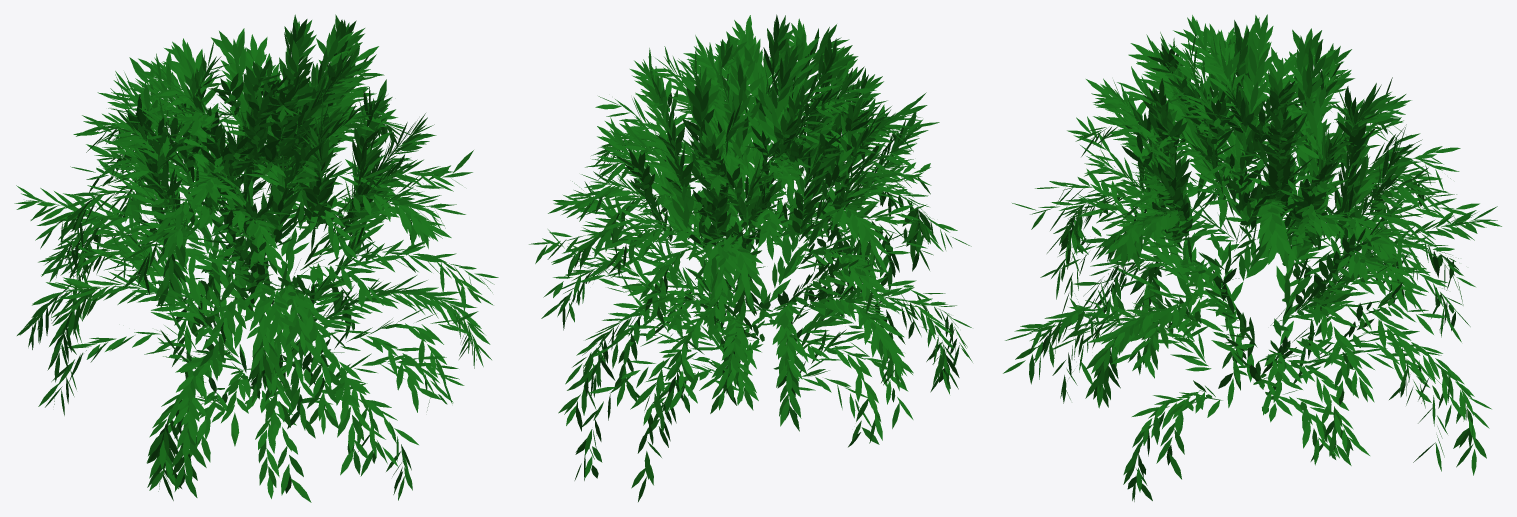
The model's file is Tree_1.fbx.
The picture shows the model from 3 angles, left to right: view 1: azimuth 30°, elevation 25°; view 2: azimuth 150°, elevation 25°; view 3: azimuth 270°, elevation 25°; orthographic projection. The views are drawn at different scales.
Parts seen in each view (by area): view 1: leaves; view 2: leaves; view 3: leaves.
Boxes of the visible parts, x1,y1,x2,y2 form: leaves: [14, 14, 498, 502]; leaves: [529, 14, 972, 501]; leaves: [1003, 14, 1501, 501].
Size of the model in its own units: 545 by 603 by 625.
